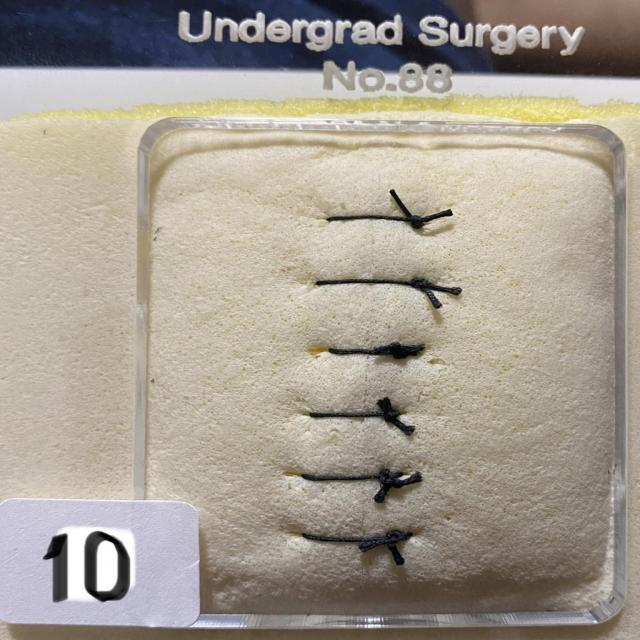knot: (379, 470, 403, 488), (390, 343, 408, 359), (386, 531, 405, 544), (410, 278, 430, 289), (410, 216, 424, 228), (385, 410, 400, 421)
leftover: (389, 188, 420, 225), (386, 411, 415, 436), (356, 534, 395, 552), (374, 472, 394, 506), (420, 282, 443, 310), (414, 211, 454, 226), (419, 282, 465, 295), (389, 534, 404, 568), (388, 473, 424, 486), (379, 395, 393, 417), (396, 342, 432, 350), (372, 345, 402, 354)
stitch: (299, 531, 416, 543), (322, 214, 425, 227), (298, 471, 406, 481), (312, 278, 433, 286), (325, 347, 421, 355), (306, 411, 404, 418)
wound: (358, 188, 377, 583)
